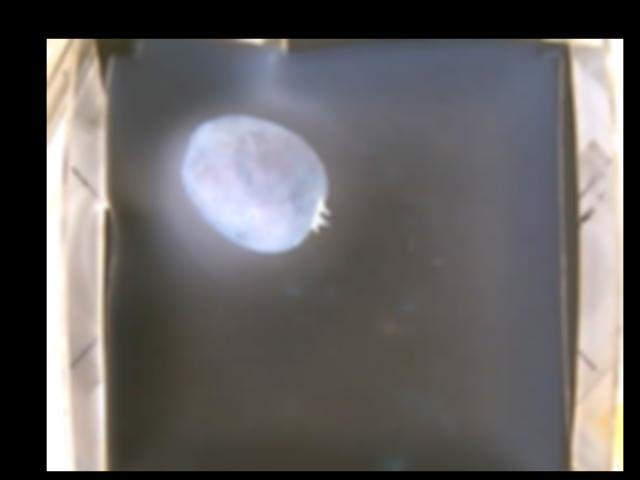Potato: (180, 112, 331, 257)
